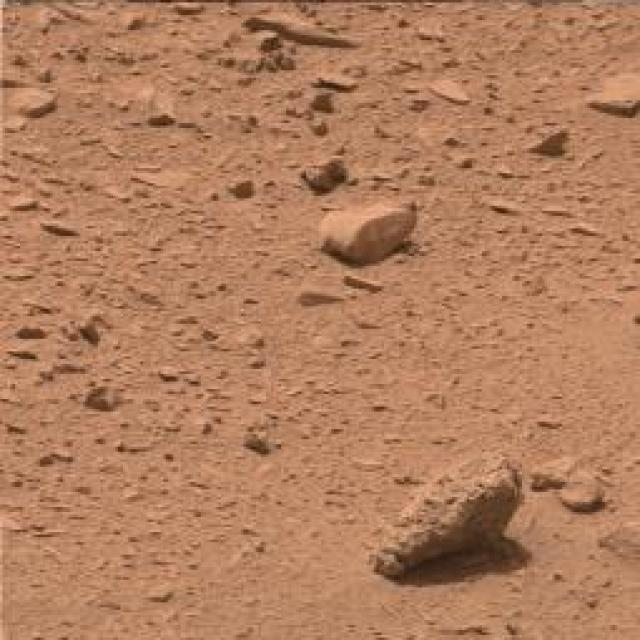rock: (372, 451, 524, 584), (318, 200, 415, 270), (243, 10, 364, 45), (584, 61, 640, 124), (232, 25, 292, 77), (3, 88, 63, 120), (530, 450, 571, 492), (298, 155, 346, 188), (564, 472, 600, 514)
